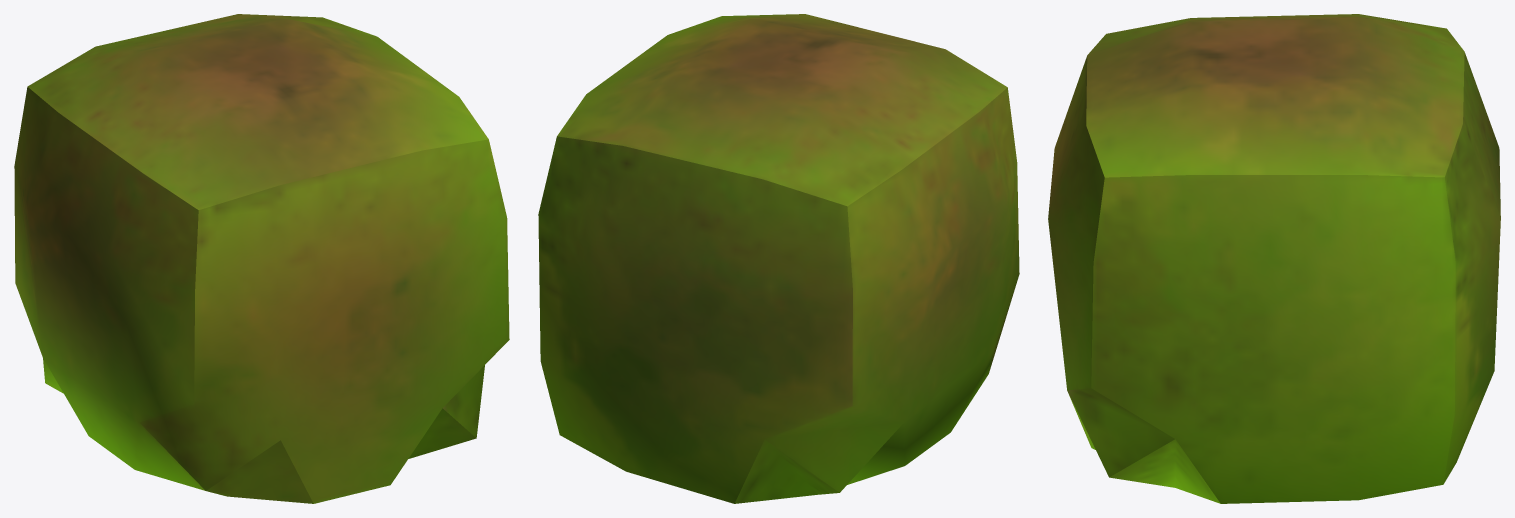
The model's file is Rocas04.fbx.
The picture shows the model from 3 angles, left to right: view 1: azimuth 30°, elevation 25°; view 2: azimuth 150°, elevation 25°; view 3: azimuth 270°, elevation 25°; orthographic projection. The views are drawn at different scales.
Visible parts, largest first — view 1: Roca4; view 2: Roca4; view 3: Roca4.
Boxes of the visible parts, bbox=[...] form: Roca4: bbox=[14, 14, 509, 503]; Roca4: bbox=[538, 14, 1019, 503]; Roca4: bbox=[1048, 14, 1500, 503].
Bounding box in the file's own units: 69.25 × 68.47 × 69.24.
